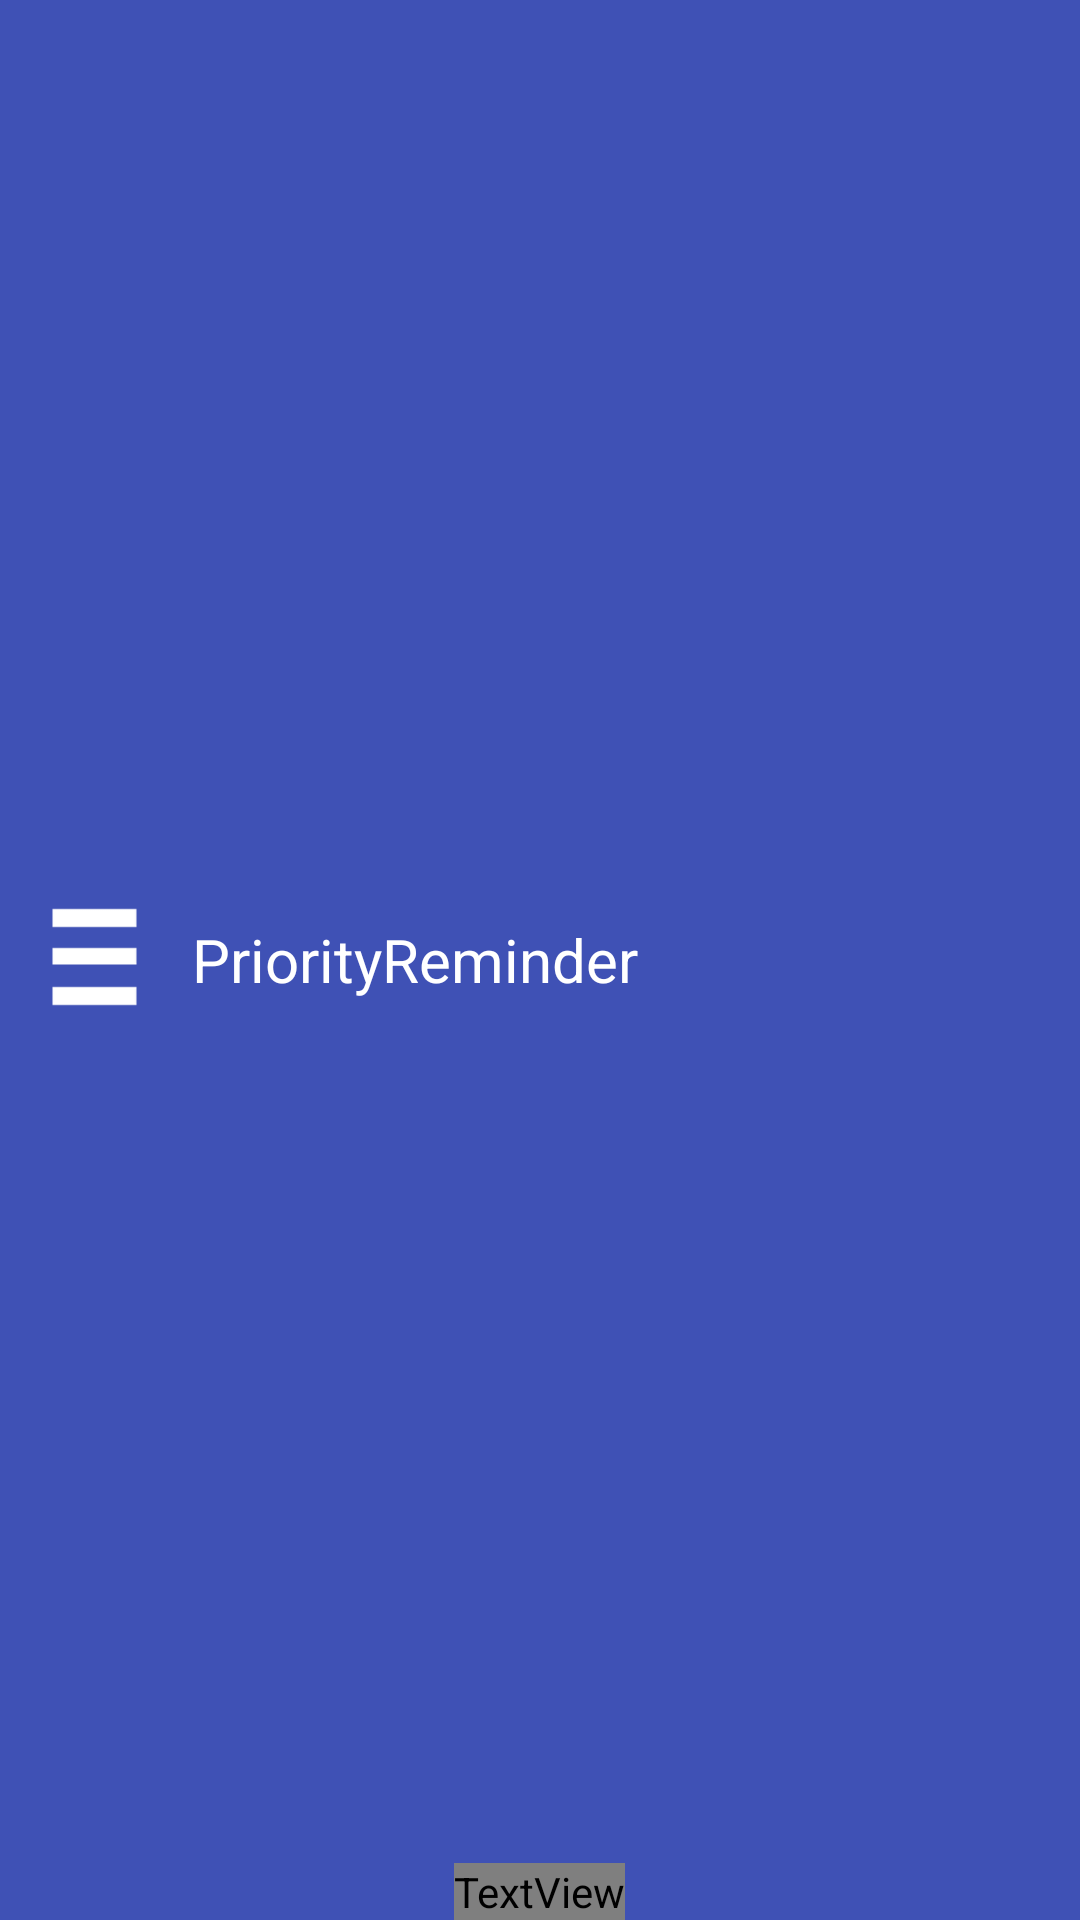

Icons on this 1080px×1920px Android screen, each with the point to tap as (x=x, y=y):
showprojects: (x=94, y=957)
